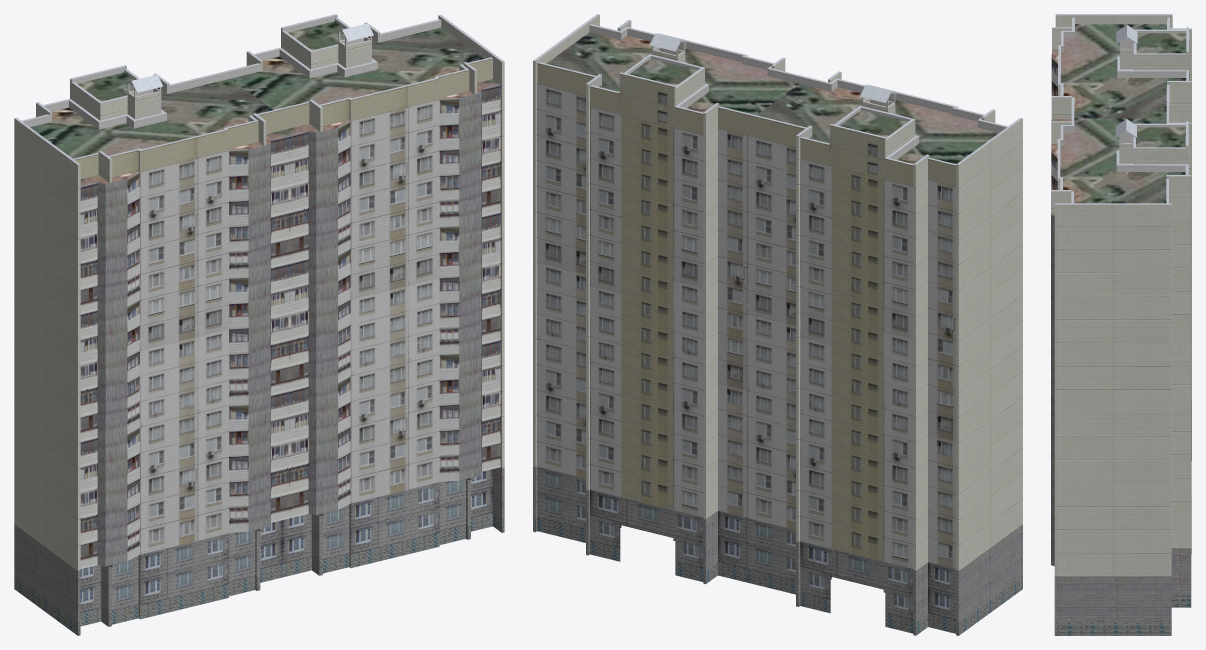
3 views of the same model, side by side, from view 1: azimuth 30°, elevation 25°; view 2: azimuth 150°, elevation 25°; view 3: azimuth 270°, elevation 25° (orthographic). The views are drawn at different scales.
Parts seen in each view (by area): view 1: _C-БС Рядовая#1 (Loose Mesh).001; view 2: _C-БС Рядовая#1 (Loose Mesh).001; view 3: _C-БС Рядовая#1 (Loose Mesh).001.
Boxes of the visible parts, <box> form: _C-БС Рядовая#1 (Loose Mesh).001: <box>14,14,504,635</box>; _C-БС Рядовая#1 (Loose Mesh).001: <box>533,14,1022,635</box>; _C-БС Рядовая#1 (Loose Mesh).001: <box>1051,14,1191,635</box>.
Bounding box in the file's own units: 4899 × 5535 × 1531.
16 materials, 15 textured.
